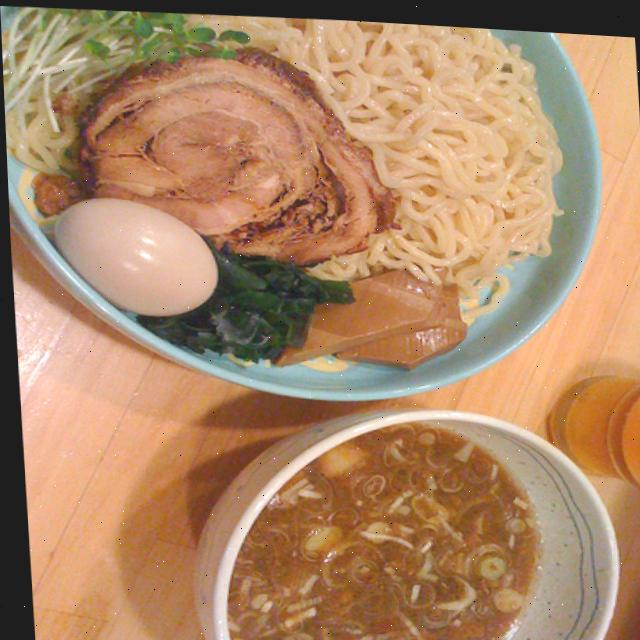面条主食: (0, 0, 599, 640)
